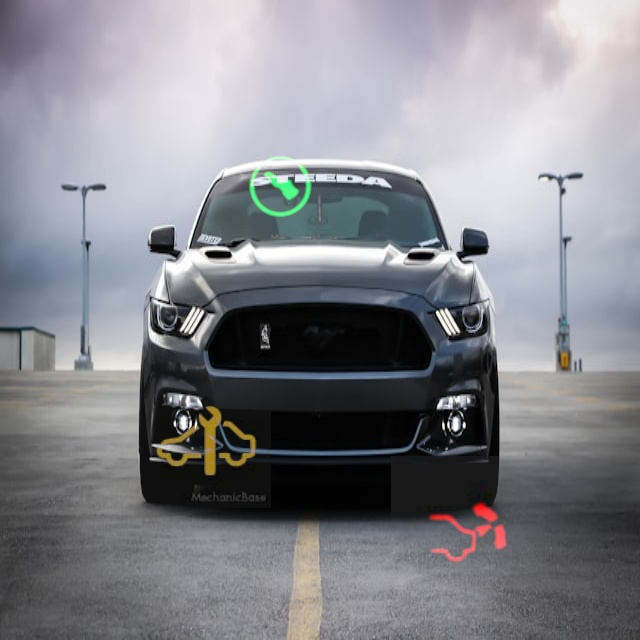symbol: (391, 456, 548, 613), (140, 377, 271, 508), (223, 127, 343, 247)
